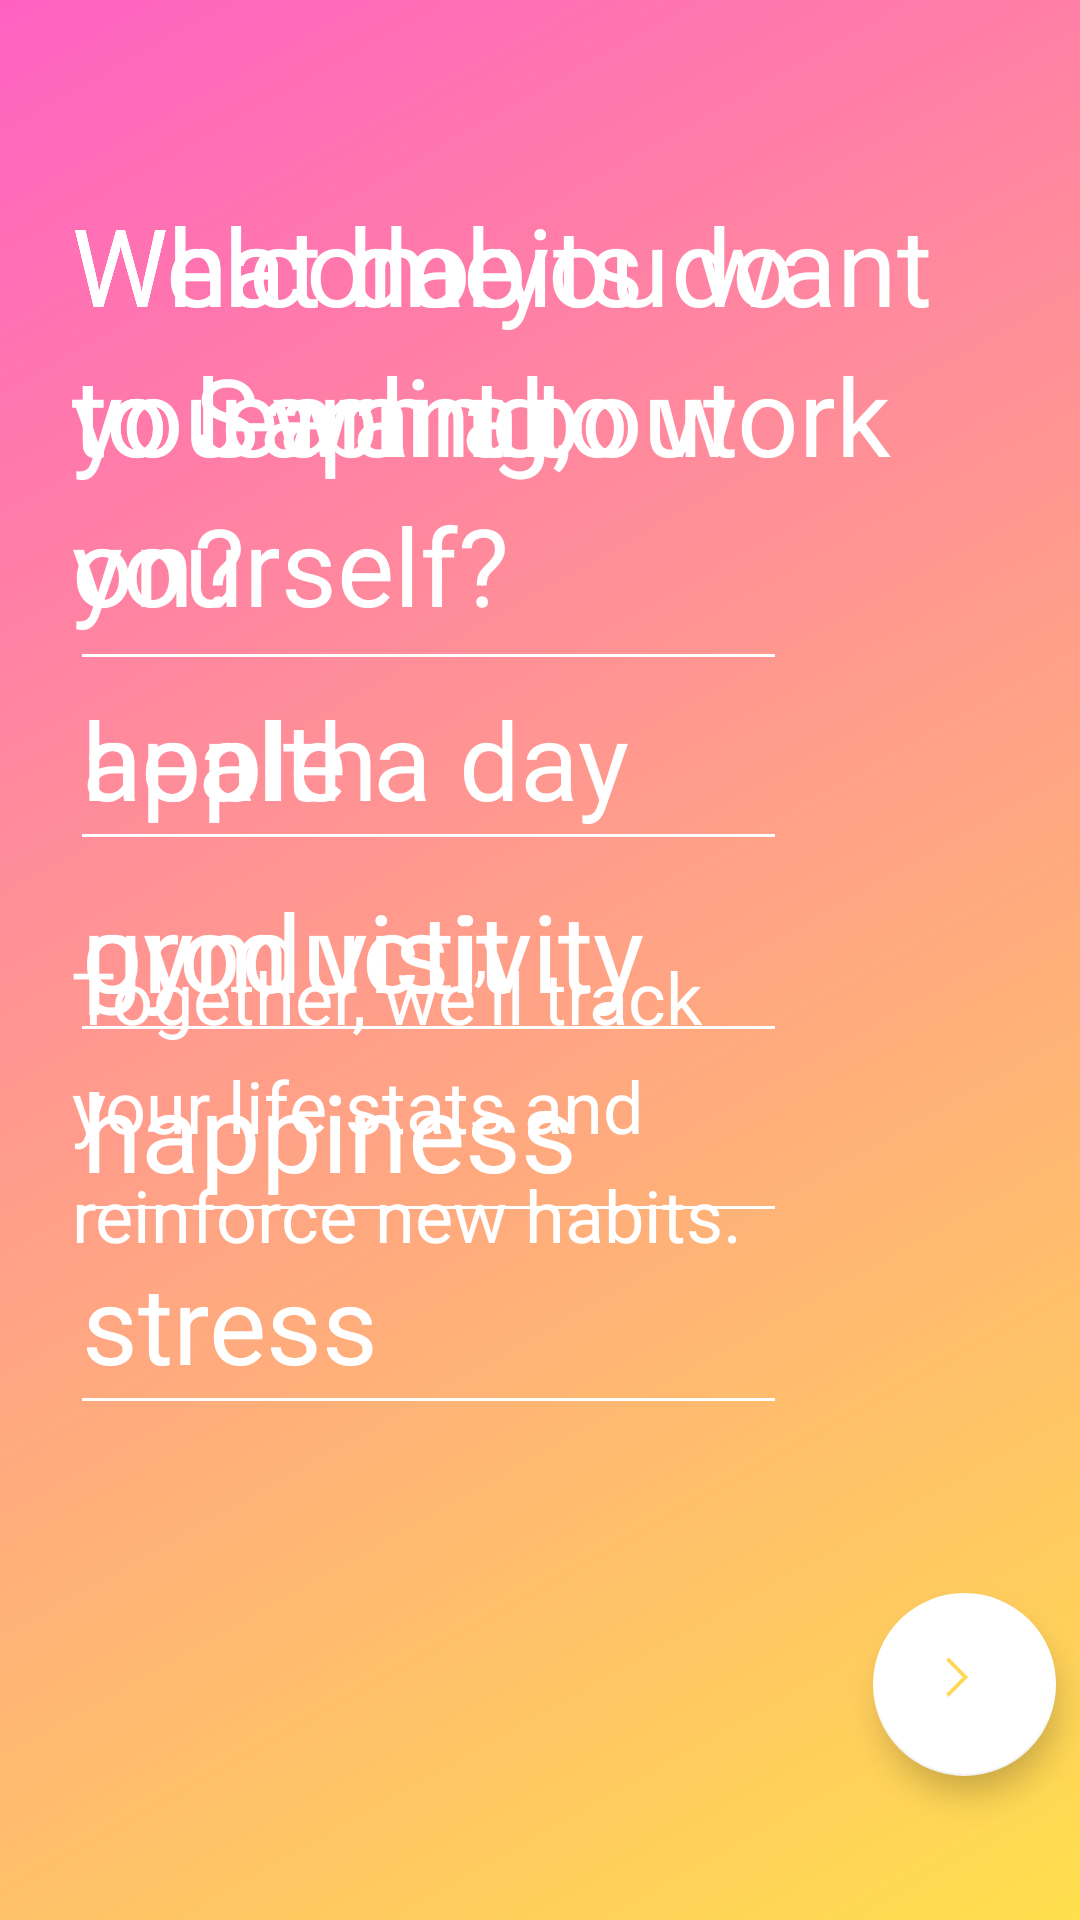

Where to tap for icons on this 1080 x 1920 app screen, as (x=x, y=y):
next: (x=964, y=1684)
